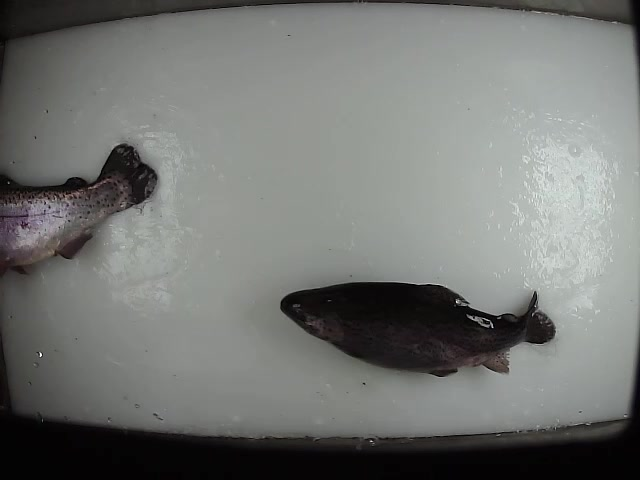fish: (278, 280, 559, 378), (1, 141, 160, 281)
